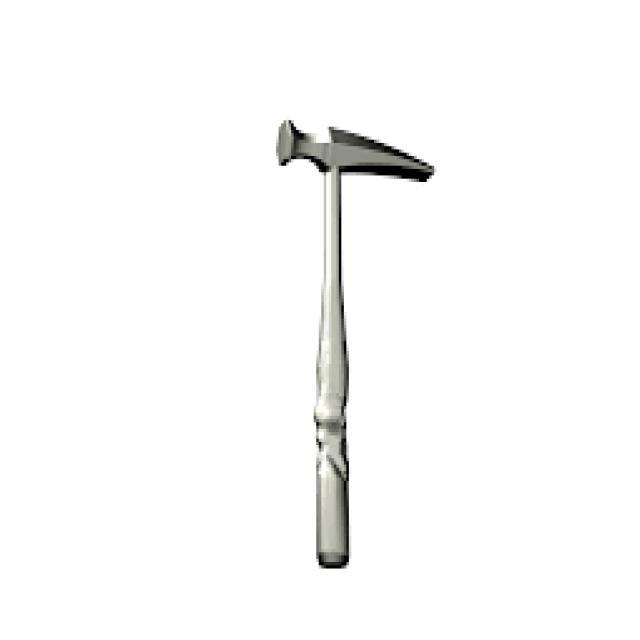hammer: (268, 106, 444, 588)
